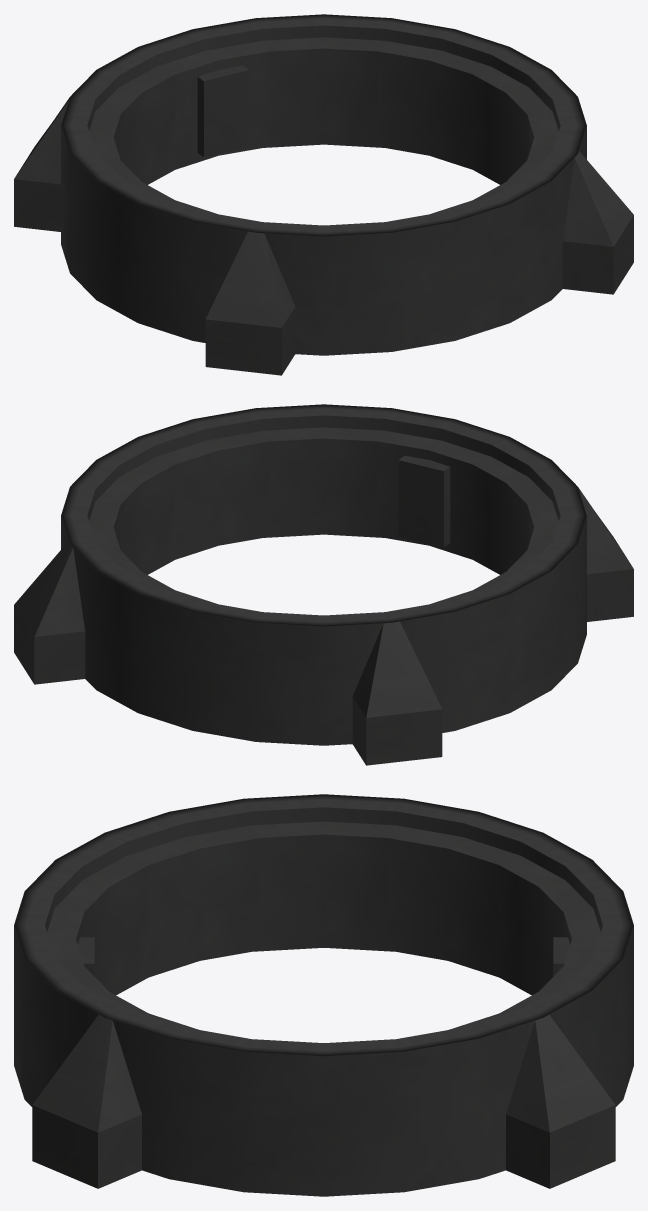
The model's file is rotanev_battery_s2_1.obj.
The picture shows the model from 3 angles, top to bottom: view 1: azimuth 30°, elevation 25°; view 2: azimuth 150°, elevation 25°; view 3: azimuth 270°, elevation 25°; orthographic projection. The views are drawn at different scales.
Visible parts, largest first — view 1: 1; view 2: 1; view 3: 1.
Boxes of the visible parts, <box> form: 1: <box>14,14,633,375</box>; 1: <box>14,404,633,765</box>; 1: <box>14,794,633,1196</box>.
Size of the model in its own units: 2.5 by 0.625 by 2.5.
